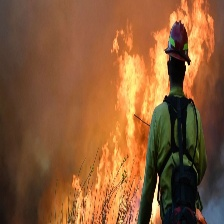fire: (68, 1, 212, 224)
smoke: (1, 4, 113, 166)
